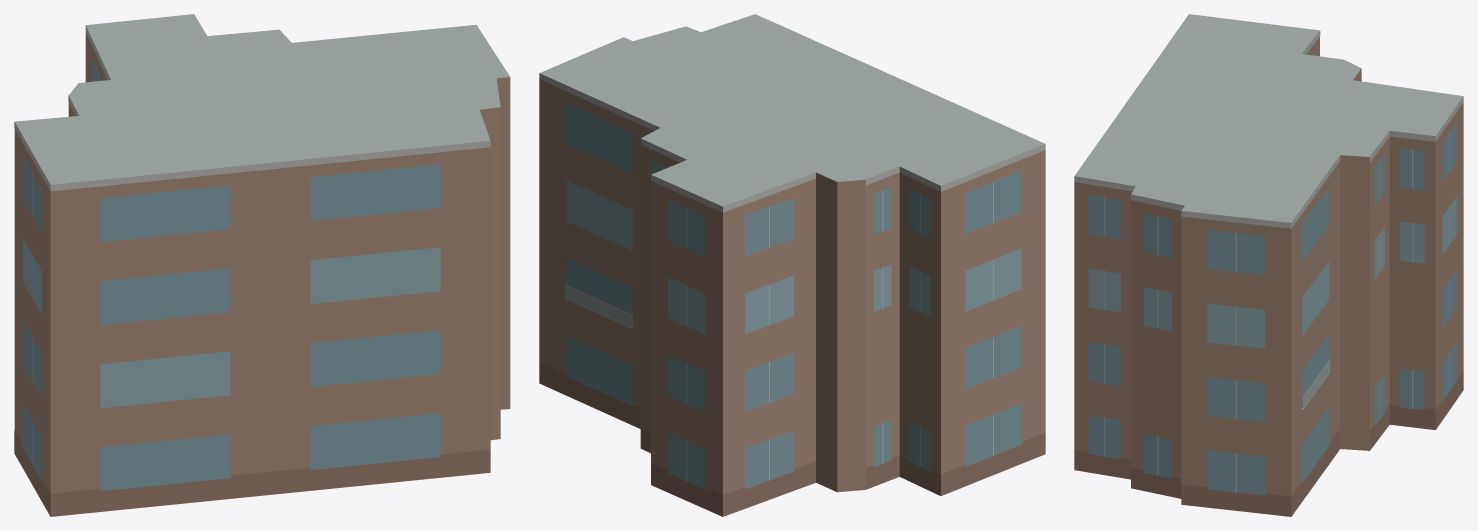
Rendered from survey-upis-32565101.glb.
3 renders of one model, left to right at view 1: azimuth 30°, elevation 25°; view 2: azimuth 150°, elevation 25°; view 3: azimuth 270°, elevation 25°, orthographic. The views are drawn at different scales.
Visible parts, largest first — view 1: survey-upis-32565101.tmp; view 2: survey-upis-32565101.tmp; view 3: survey-upis-32565101.tmp.
Boxes of the visible parts, box(x1,y1,x2,y2) form: survey-upis-32565101.tmp: box(14, 14, 510, 516); survey-upis-32565101.tmp: box(539, 14, 1045, 516); survey-upis-32565101.tmp: box(1074, 14, 1463, 516).
Size of the model in its own units: 19.07 by 12.5 by 15.01.
